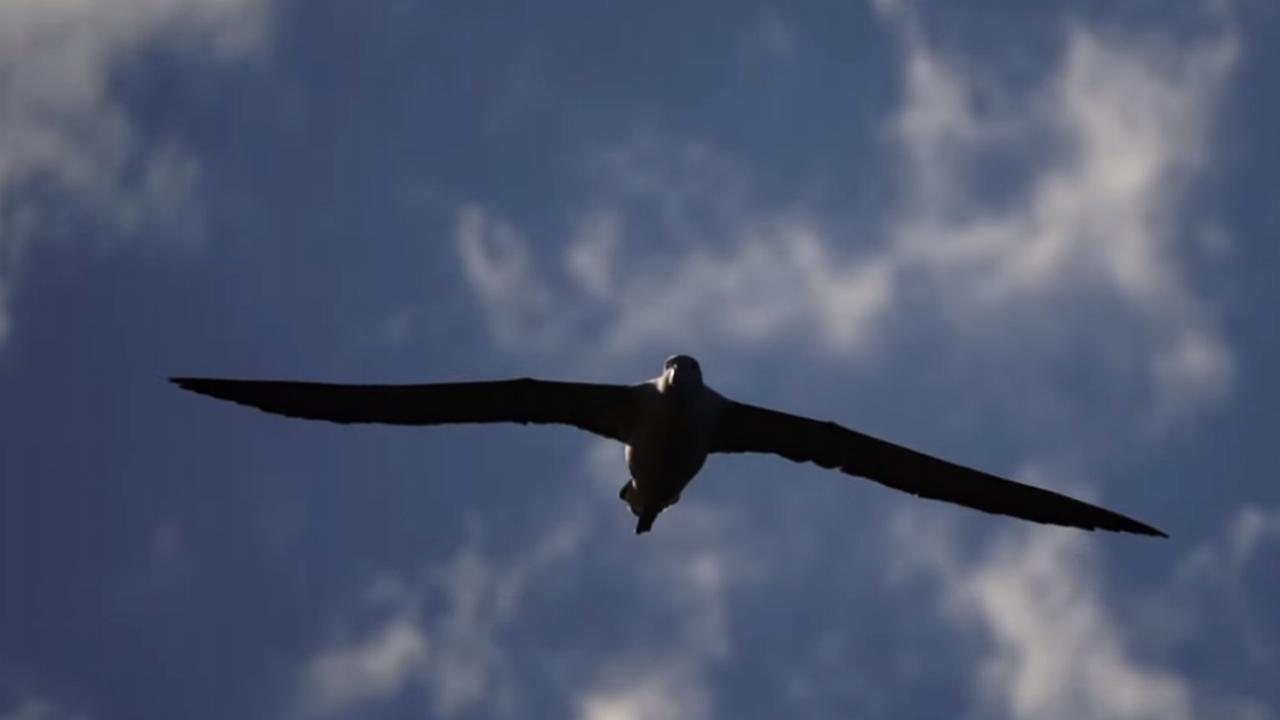Bird: (158, 344, 1178, 564)
